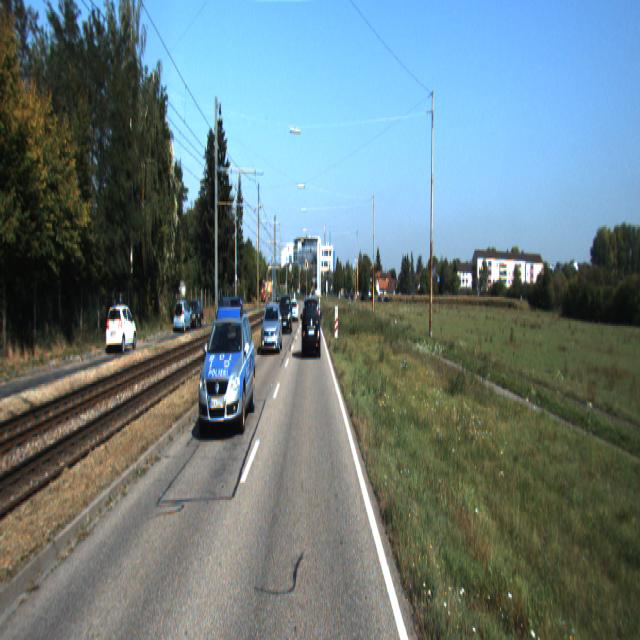Car: (198, 296, 258, 440), (106, 304, 138, 356), (302, 295, 321, 358), (261, 301, 283, 354), (173, 299, 192, 335), (186, 296, 203, 330), (280, 297, 292, 337), (290, 298, 299, 322)
